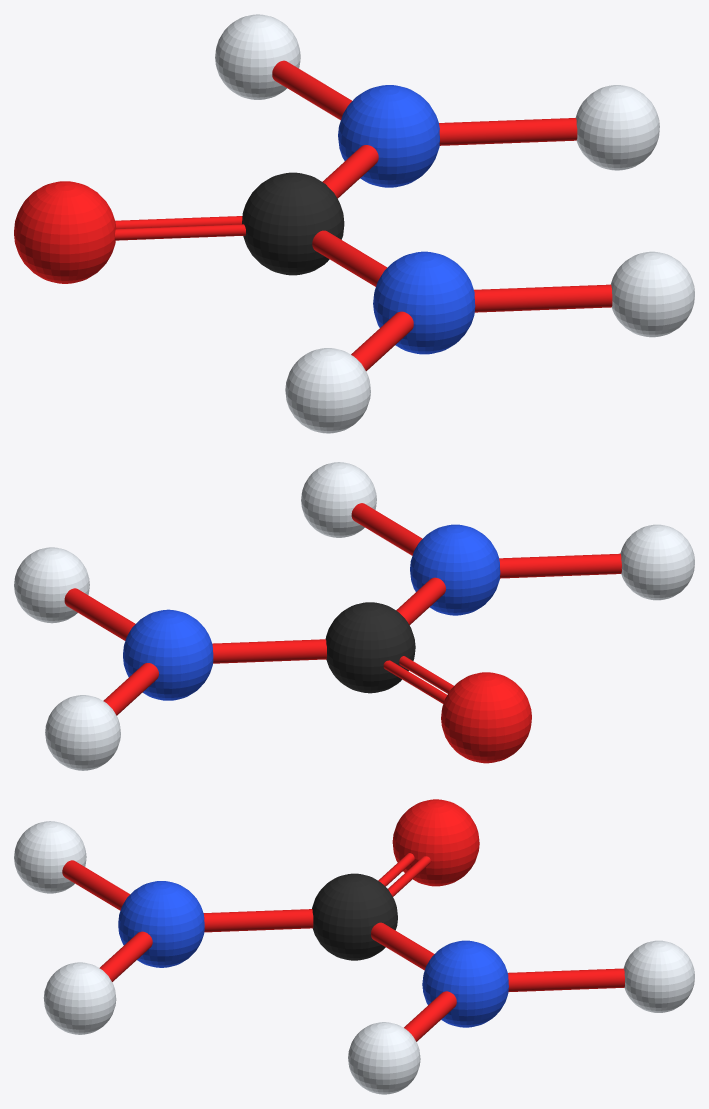
Rendered from urea.fbx.
3 views of the same model, one above another, from view 1: azimuth 30°, elevation 25°; view 2: azimuth 150°, elevation 25°; view 3: azimuth 270°, elevation 25° (orthographic). The views are drawn at different scales.
Visible parts, largest first — view 1: urea; view 2: urea; view 3: urea.
Part boxes in pixels (x1=…): urea: x1=14, y1=14, x2=694, y2=433; urea: x1=14, y1=462, x2=694, y2=770; urea: x1=14, y1=799, x2=694, y2=1094.
Bounding box in the file's own units: 244 × 36 × 281.
